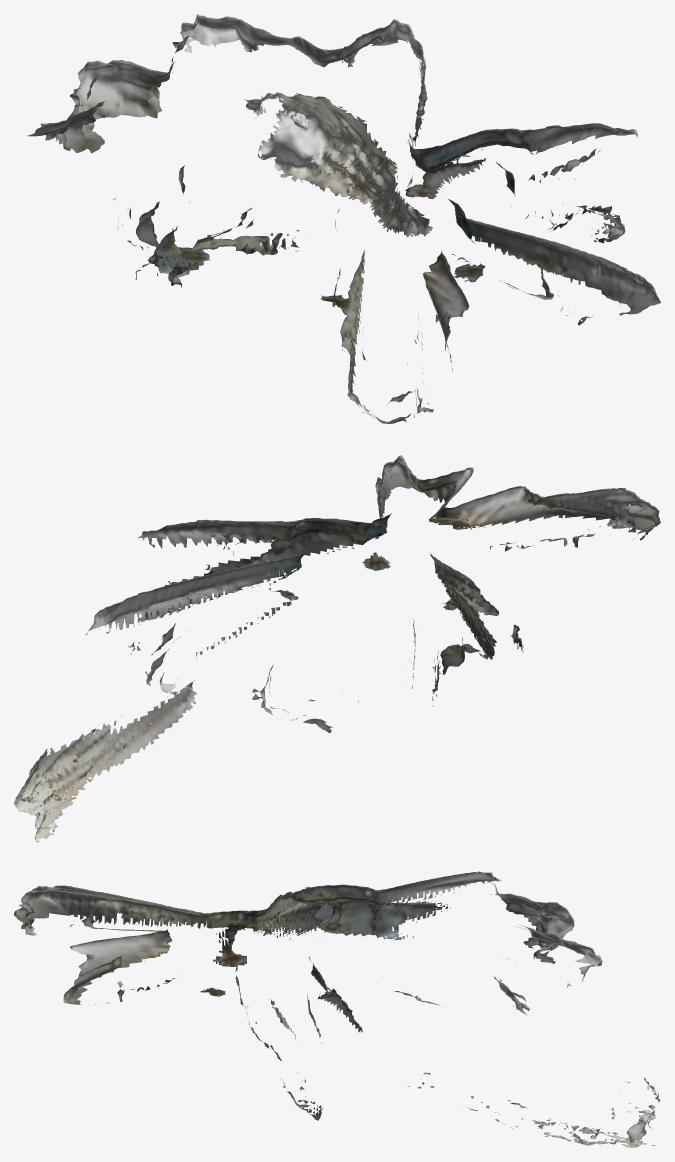
Rendered from gen-21.glb.
3 renders of one model, top to bottom at view 1: azimuth 30°, elevation 25°; view 2: azimuth 150°, elevation 25°; view 3: azimuth 270°, elevation 25°, orthographic. The views are drawn at different scales.
Visible parts, largest first — view 1: world; view 2: world; view 3: world.
Boxes of the visible parts, <box> form: world: <box>26,14,660,423</box>; world: <box>14,455,660,842</box>; world: <box>14,871,659,1147</box>.
Bounding box in the file's own units: 71.27 × 31.9 × 114.
